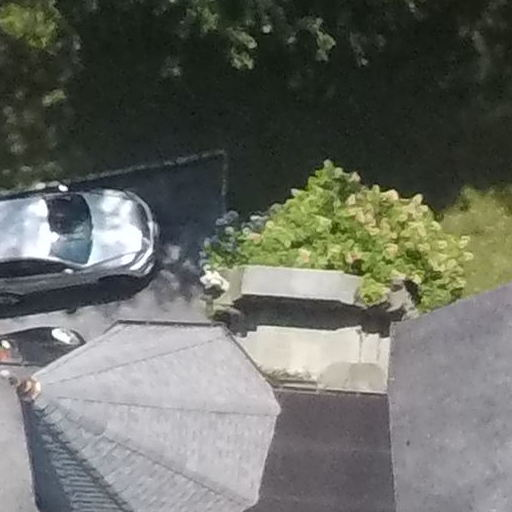car: (1, 166, 177, 324)
